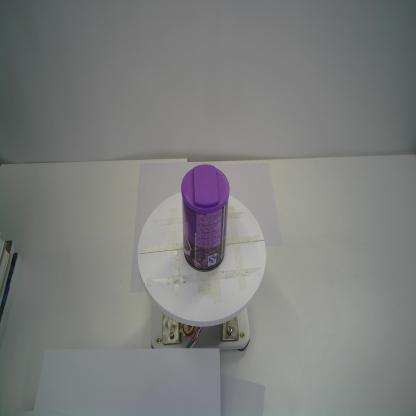Canned Food: (180, 163, 231, 274)
